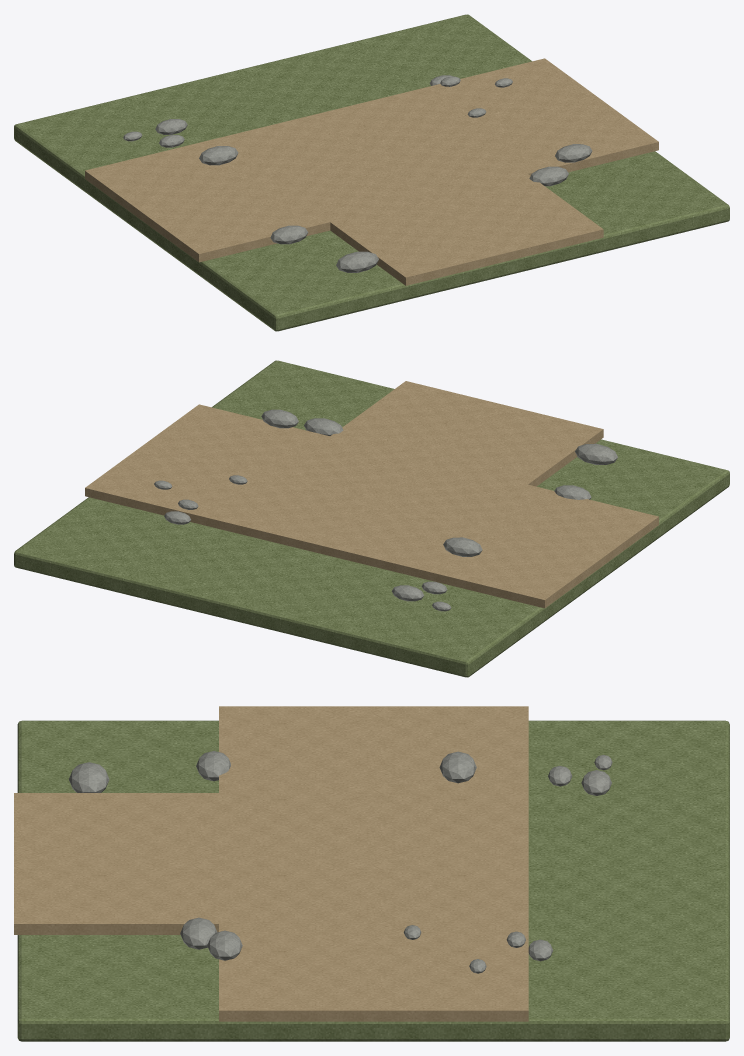
File: ROAD_DIRT_1x1_T.glb
The picture shows the model from 3 angles, top to bottom: view 1: azimuth 30°, elevation 25°; view 2: azimuth 150°, elevation 25°; view 3: azimuth 270°, elevation 25°; orthographic projection. The views are drawn at different scales.
Parts seen in each view (by area): view 1: ROAD_DIRT_1x1_T_Visual; view 2: ROAD_DIRT_1x1_T_Visual; view 3: ROAD_DIRT_1x1_T_Visual.
Boxes of the visible parts, x1,y1,x2,y2 form: ROAD_DIRT_1x1_T_Visual: [14, 14, 729, 331]; ROAD_DIRT_1x1_T_Visual: [14, 360, 729, 677]; ROAD_DIRT_1x1_T_Visual: [14, 706, 729, 1041].
Size of what is drawn, in the model's own units: 2 by 0.1679 by 1.99.
Materials: 3 (3 with a texture image).
